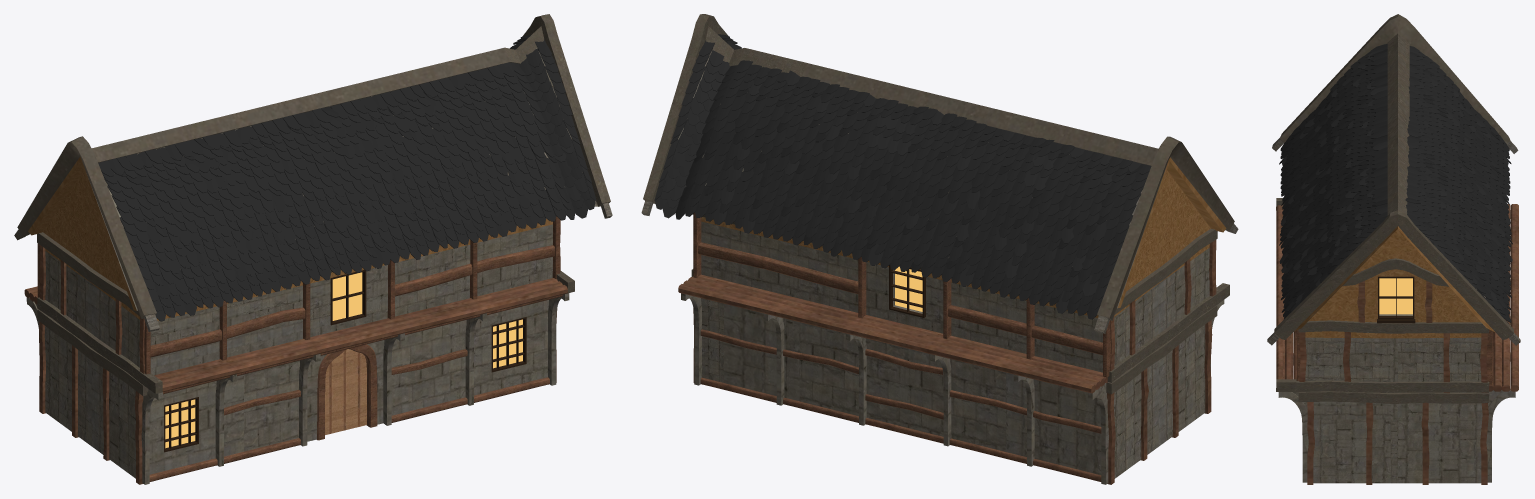
The model's file is house_1.glb.
3 views of the same model, side by side, from view 1: azimuth 30°, elevation 25°; view 2: azimuth 150°, elevation 25°; view 3: azimuth 270°, elevation 25° (orthographic). The views are drawn at different scales.
Parts seen in each view (by area): view 1: Large_Medieval_House.001; view 2: Large_Medieval_House.001; view 3: Large_Medieval_House.001.
Boxes of the visible parts, <box> form: Large_Medieval_House.001: <box>14,14,612,484</box>; Large_Medieval_House.001: <box>641,14,1238,484</box>; Large_Medieval_House.001: <box>1267,14,1520,484</box>.
Size of the model in its own units: 5.64 by 3.62 by 2.87.
Materials: 5 (2 with a texture image).
